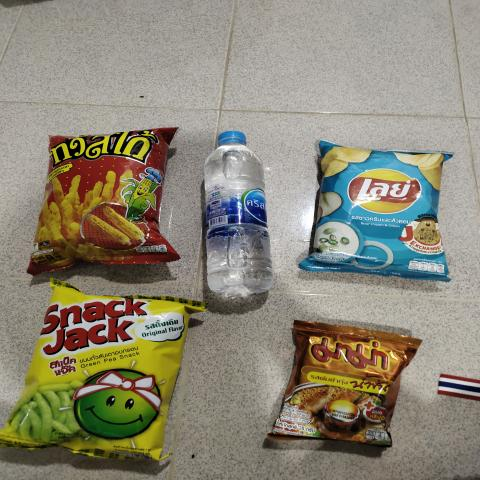crystal: (205, 128, 267, 288)
lay_blue: (328, 152, 443, 274)
mama: (306, 329, 385, 448)
snack_jack: (44, 301, 160, 455)
twisco: (49, 135, 175, 261)
